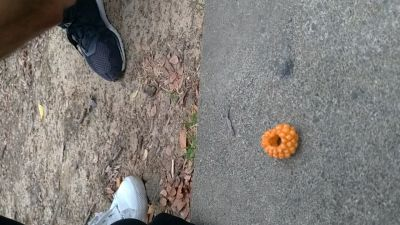eggs: (260, 122, 300, 158)
